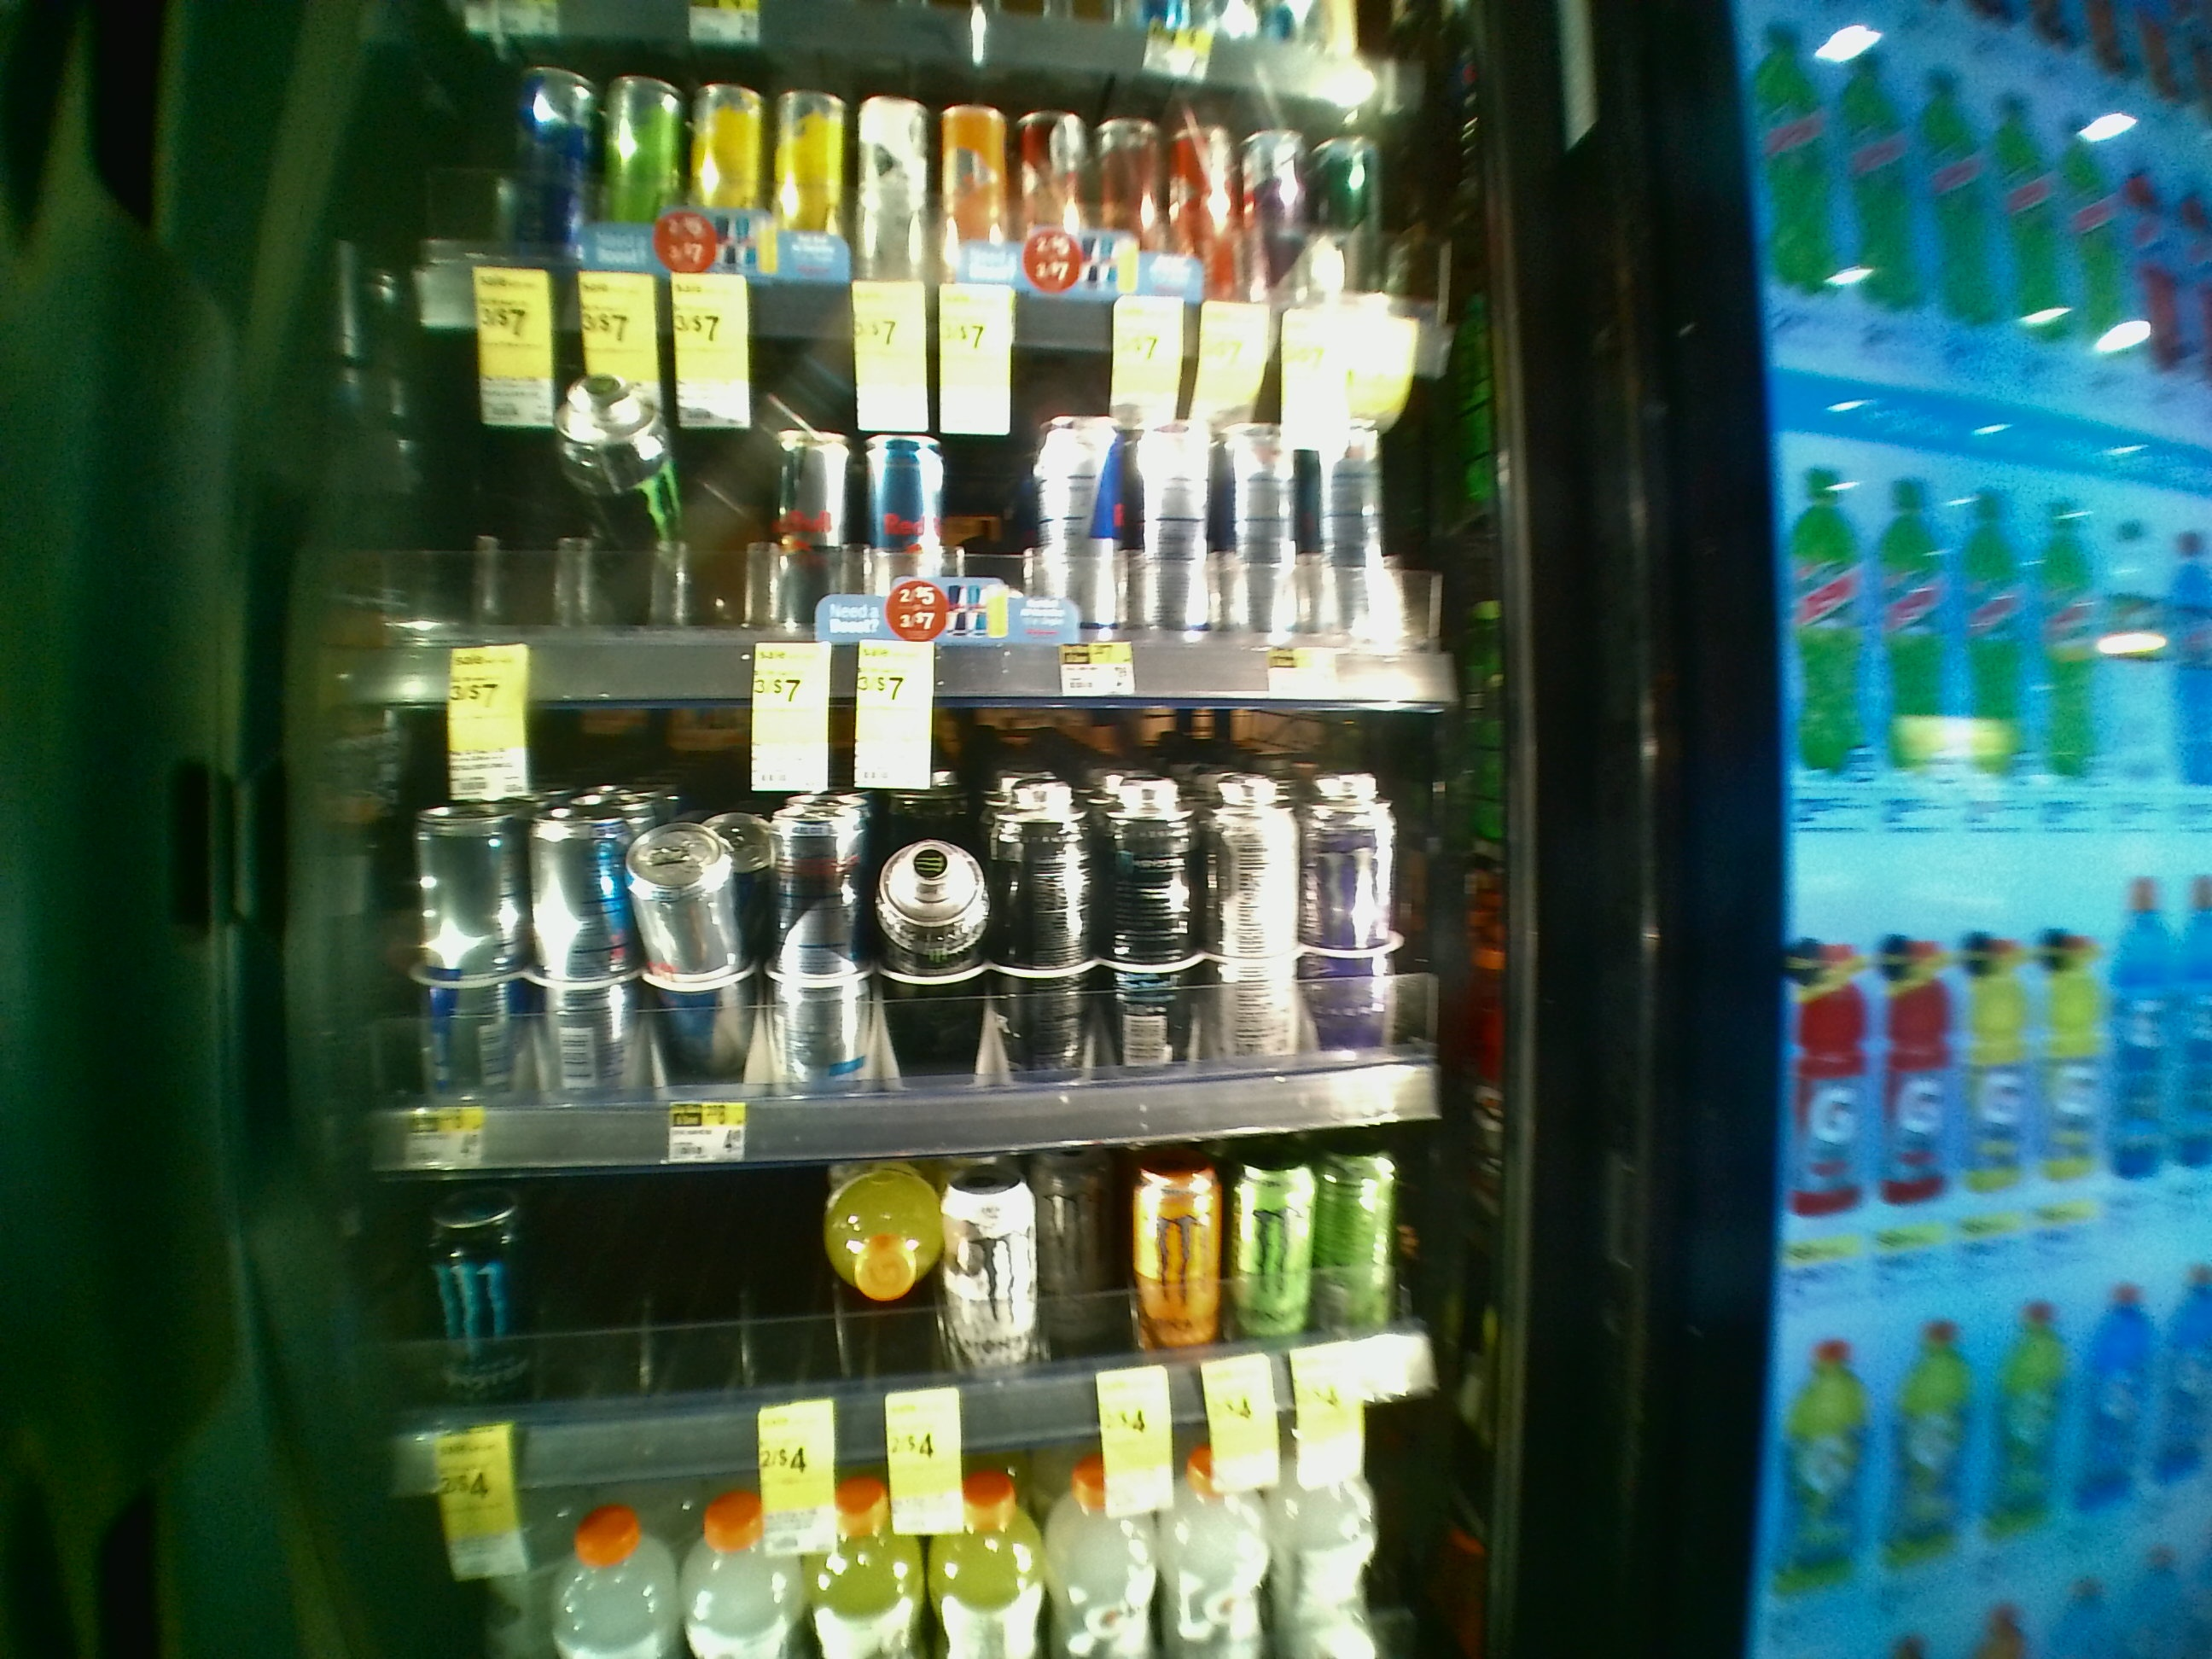shelf: (273, 702, 1521, 1138), (277, 300, 1505, 702)
